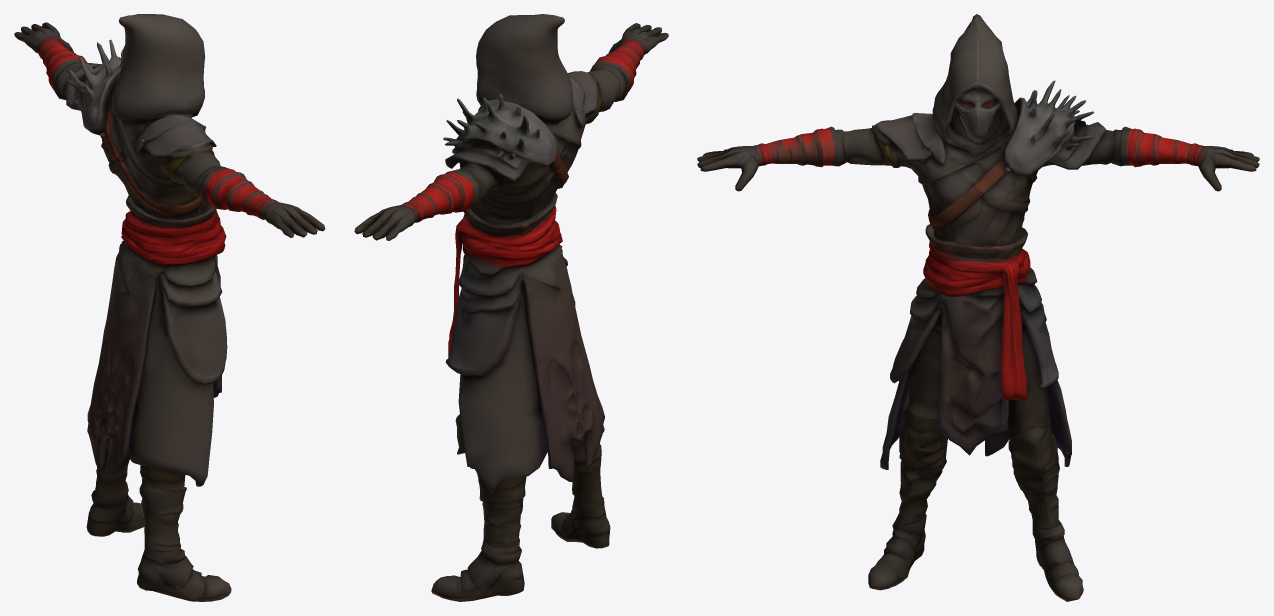
3 views of the same model, side by side, from view 1: azimuth 30°, elevation 25°; view 2: azimuth 150°, elevation 25°; view 3: azimuth 270°, elevation 25° (orthographic).
Parts seen in each view (by area): view 1: tripo_node_cec8a39f-0bd2-4d15-a39a-d053e0541249; view 2: tripo_node_cec8a39f-0bd2-4d15-a39a-d053e0541249; view 3: tripo_node_cec8a39f-0bd2-4d15-a39a-d053e0541249.
Part boxes in pixels (<box>): tripo_node_cec8a39f-0bd2-4d15-a39a-d053e0541249: <box>14,14,325,601</box>; tripo_node_cec8a39f-0bd2-4d15-a39a-d053e0541249: <box>354,14,668,601</box>; tripo_node_cec8a39f-0bd2-4d15-a39a-d053e0541249: <box>697,14,1259,601</box>.
Bounding box in the file's own units: 0.2211 × 0.998 × 0.9256.
Materials: 1 (1 with a texture image).
